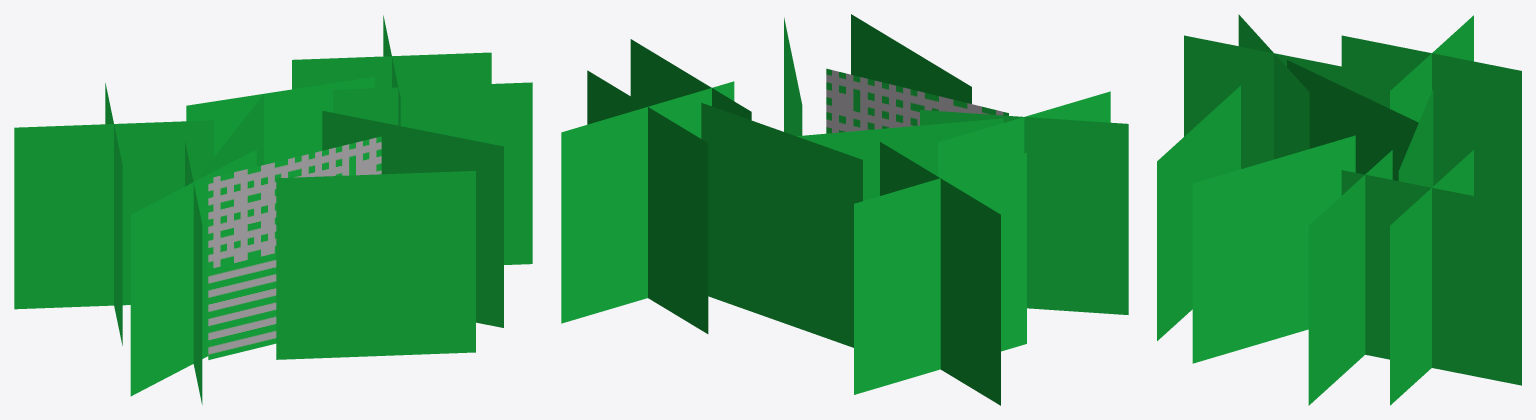
The model's file is grassPatch.fbx.
The picture shows the model from 3 angles, left to right: view 1: azimuth 30°, elevation 25°; view 2: azimuth 150°, elevation 25°; view 3: azimuth 270°, elevation 25°; orthographic projection. The views are drawn at different scales.
Parts seen in each view (by area): view 1: node_id4, node_id9, node_id16, node_id10, node_id5, node_id13, node_id12, node_id6, node_id14, node_id11, node_id8; view 2: node_id12, node_id8, node_id10, node_id7, node_id6, node_id9, node_id16, node_id11, node_id4, node_id14, node_id5, node_id13; view 3: node_id13, node_id7, node_id8, node_id5, node_id4, node_id14, node_id6, node_id11, node_id10, node_id9, node_id12.
Boxes of the visible parts, left/top/right/bottom form: node_id4: left=276, top=171, right=475, bottom=359; node_id9: left=14, top=120, right=213, bottom=309; node_id16: left=208, top=136, right=381, bottom=359; node_id10: left=130, top=149, right=256, bottom=396; node_id5: left=333, top=82, right=532, bottom=264; node_id13: left=322, top=110, right=503, bottom=327; node_id12: left=186, top=76, right=374, bottom=164; node_id6: left=292, top=52, right=491, bottom=89; node_id14: left=185, top=141, right=202, bottom=404; node_id11: left=200, top=94, right=263, bottom=177; node_id8: left=105, top=83, right=122, bottom=345; node_id12: left=701, top=102, right=862, bottom=347; node_id8: left=854, top=152, right=1026, bottom=394; node_id10: left=920, top=110, right=1128, bottom=314; node_id7: left=561, top=81, right=734, bottom=323; node_id6: left=587, top=70, right=708, bottom=333; node_id9: left=880, top=142, right=1000, bottom=405; node_id16: left=826, top=68, right=1008, bottom=133; node_id11: left=797, top=118, right=1003, bottom=200; node_id4: left=851, top=14, right=971, bottom=103; node_id14: left=938, top=91, right=1110, bottom=177; node_id5: left=630, top=39, right=751, bottom=120; node_id13: left=784, top=17, right=802, bottom=136; node_id13: left=1192, top=135, right=1355, bottom=363; node_id7: left=1341, top=170, right=1521, bottom=385; node_id8: left=1341, top=35, right=1521, bottom=205; node_id5: left=1308, top=150, right=1392, bottom=405; node_id4: left=1157, top=85, right=1240, bottom=340; node_id14: left=1184, top=35, right=1364, bottom=168; node_id6: left=1390, top=150, right=1473, bottom=405; node_id11: left=1287, top=60, right=1418, bottom=180; node_id10: left=1238, top=14, right=1309, bottom=159; node_id9: left=1390, top=15, right=1473, bottom=122; node_id12: left=1398, top=89, right=1433, bottom=187.
Size of what is drawn, in the model's own units: 0.0645 by 0.0256 by 0.047.
12 materials, 12 textured.
